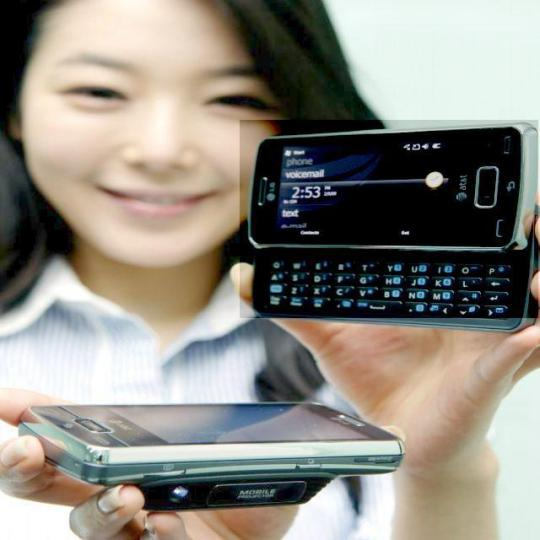phone: (223, 131, 540, 333), (10, 392, 417, 520)
